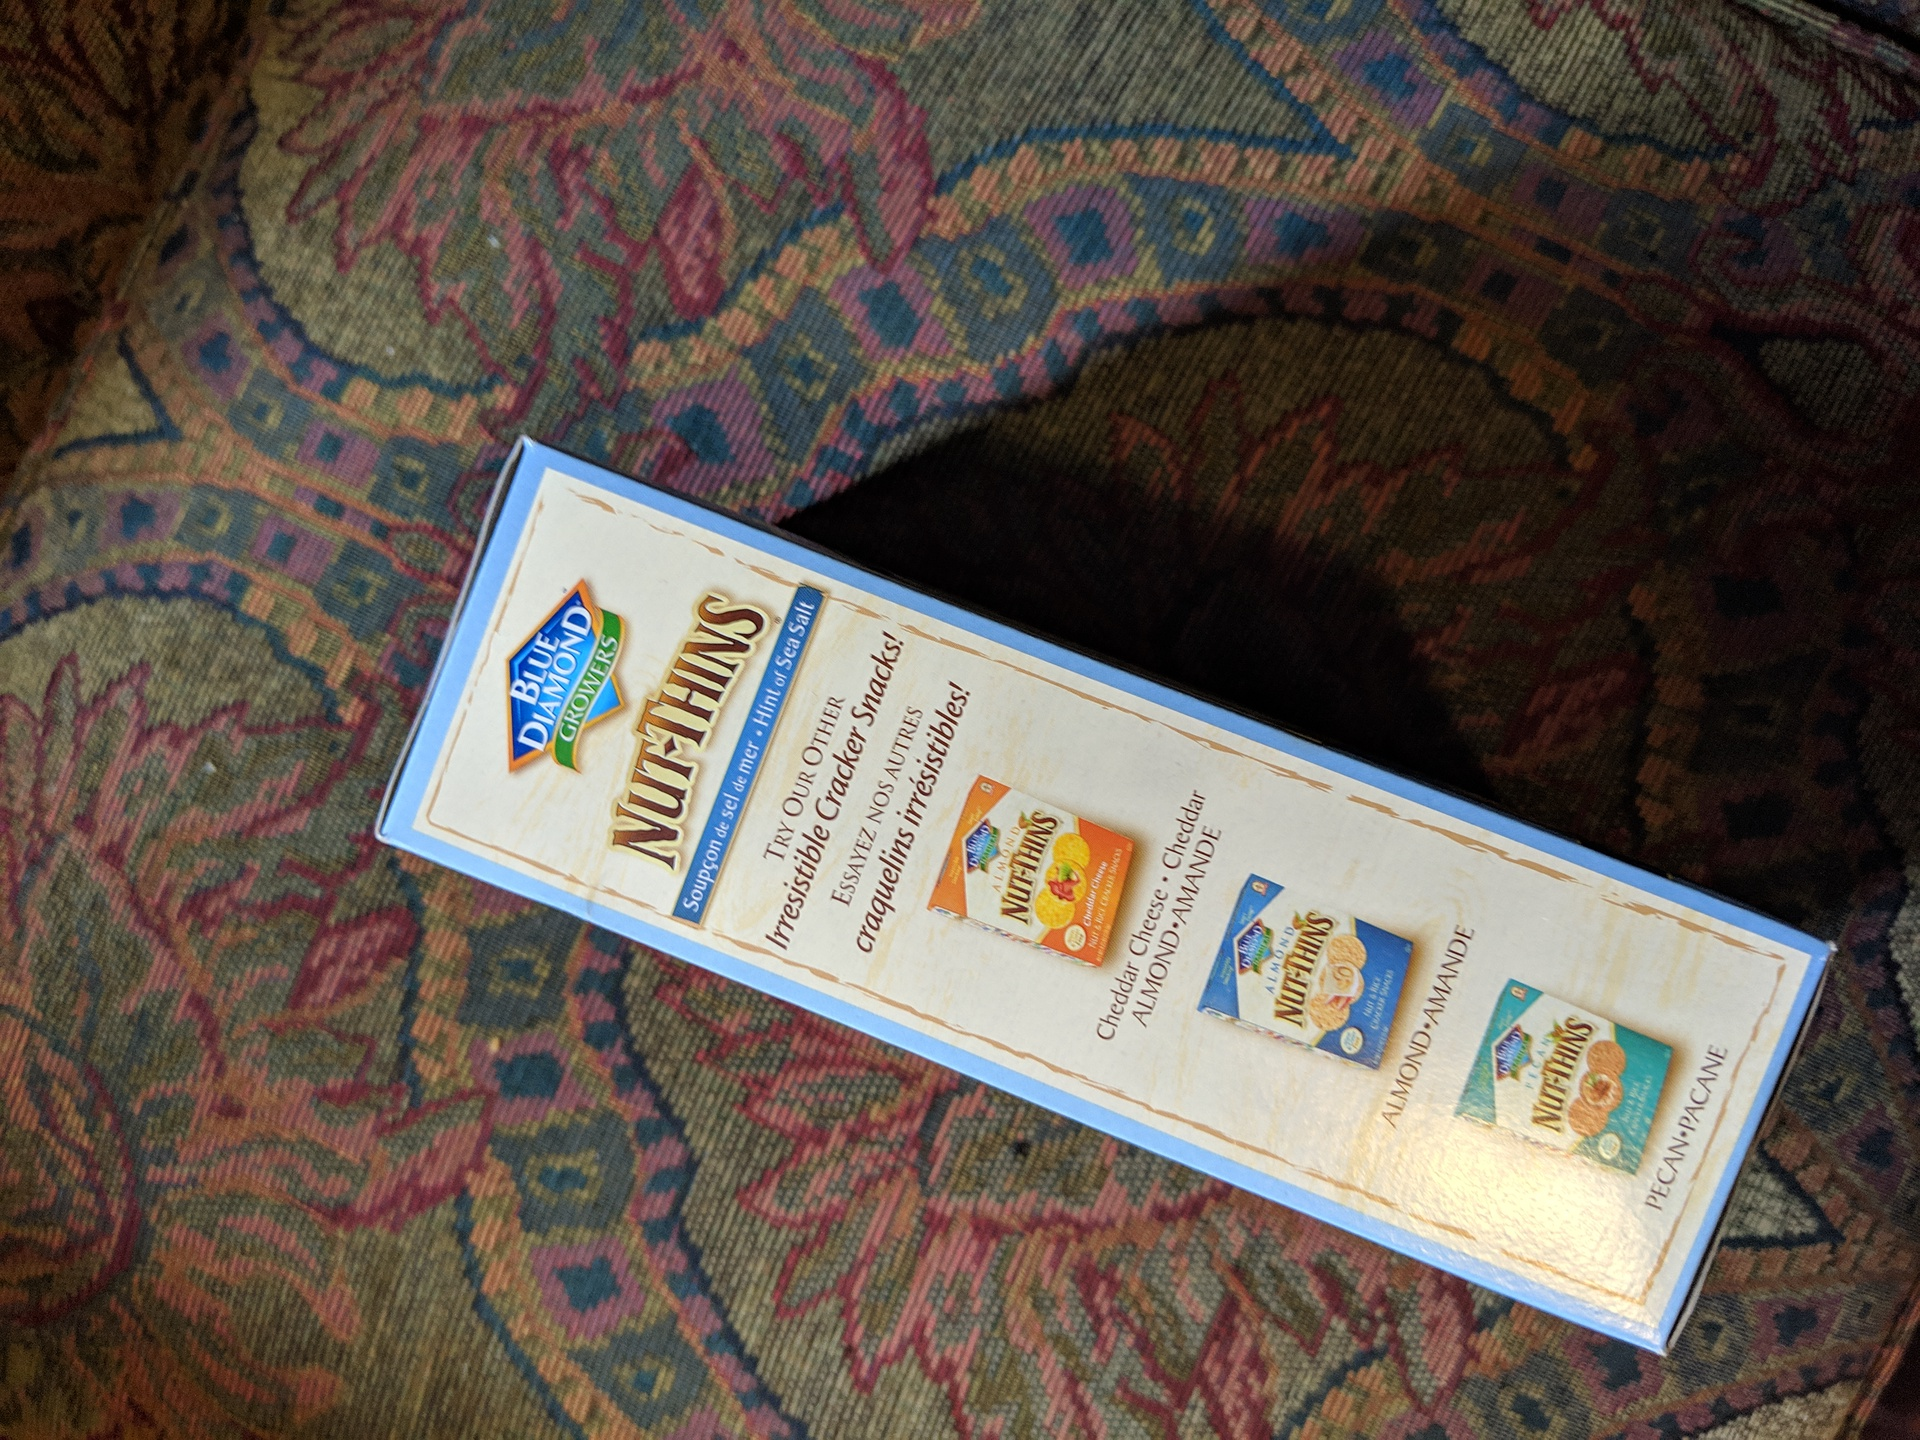blue_diamond_nut_thins_almond_seasalt: (451, 522, 1760, 1183)
